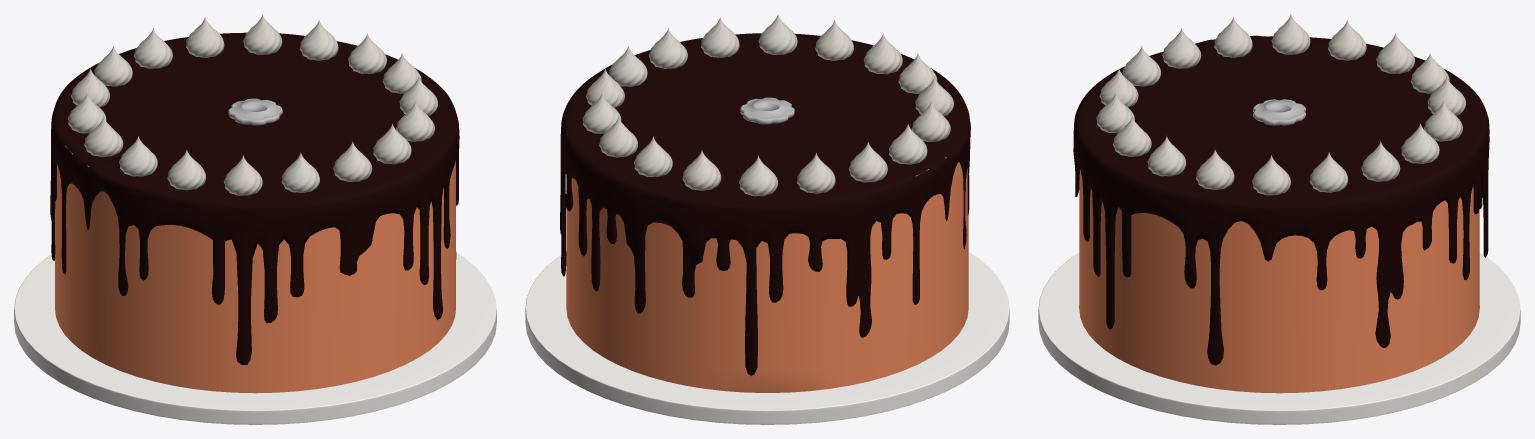
The model's file is 1773122924_cus.glb.
3 views of the same model, side by side, from view 1: azimuth 30°, elevation 25°; view 2: azimuth 150°, elevation 25°; view 3: azimuth 270°, elevation 25° (orthographic).
Parts seen in each view (by area): view 1: pCylinder3, pCylinder5, pCylinder29_1004_0, Candle_1007_0, pSphere554, pSphere555, pSphere546, pSphere548, pSphere553, pSphere547, pSphere545, pSphere557 (+10 smaller); view 2: pCylinder3, pCylinder5, pCylinder29_1004_0, Candle_1007_0, pSphere551, pSphere558, pSphere556, pSphere549, pSphere548, pSphere559, pSphere560, pSphere546 (+10 smaller); view 3: pCylinder3, pCylinder5, pCylinder29_1004_0, Candle_1007_0, pSphere545, pSphere552, pSphere554, pSphere561, pSphere551, pSphere559, pSphere560, pSphere546 (+10 smaller).
Part boxes in pixels (x1,y1,x2,y2): pCylinder3: (50, 32, 459, 364); pCylinder5: (55, 146, 455, 393); pCylinder29_1004_0: (14, 252, 496, 424); Candle_1007_0: (228, 98, 282, 125); pSphere554: (167, 149, 206, 190); pSphere555: (223, 155, 262, 195); pSphere546: (243, 14, 282, 54); pSphere548: (133, 28, 172, 68); pSphere553: (119, 136, 157, 176); pSphere547: (186, 17, 224, 57); pSphere545: (299, 20, 338, 60); pSphere557: (333, 141, 372, 181); pCylinder3: (560, 33, 970, 375); pCylinder5: (566, 157, 968, 392); pCylinder29_1004_0: (525, 252, 1009, 424); Candle_1007_0: (740, 97, 794, 124); pSphere551: (848, 142, 887, 182); pSphere558: (758, 14, 797, 54); pSphere556: (863, 33, 902, 74); pSphere549: (739, 155, 777, 196); pSphere548: (682, 150, 721, 190); pSphere559: (701, 17, 739, 57); pSphere560: (648, 28, 687, 68); pSphere546: (599, 117, 637, 157); pCylinder3: (1073, 35, 1489, 365); pCylinder5: (1079, 36, 1479, 393); pCylinder29_1004_0: (1038, 253, 1520, 424); Candle_1007_0: (1253, 99, 1305, 125); pSphere545: (1361, 141, 1400, 181); pSphere552: (1271, 14, 1310, 54); pSphere554: (1162, 28, 1201, 68); pSphere561: (1252, 155, 1290, 195); pSphere551: (1328, 20, 1366, 60); pSphere559: (1147, 136, 1186, 176); pSphere560: (1196, 149, 1234, 189); pSphere546: (1401, 123, 1439, 163).
Bounding box in the file's own units: 0.024 × 0.0131 × 0.024.
6 materials, 5 textured.
